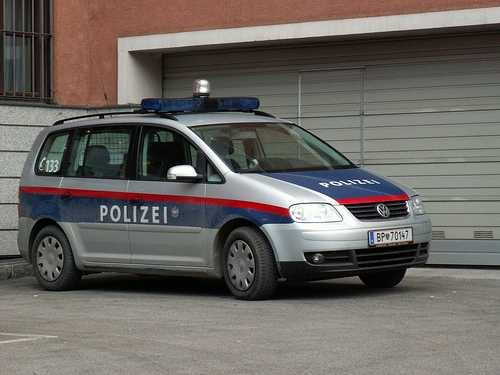Police Car: (23, 89, 445, 298)
